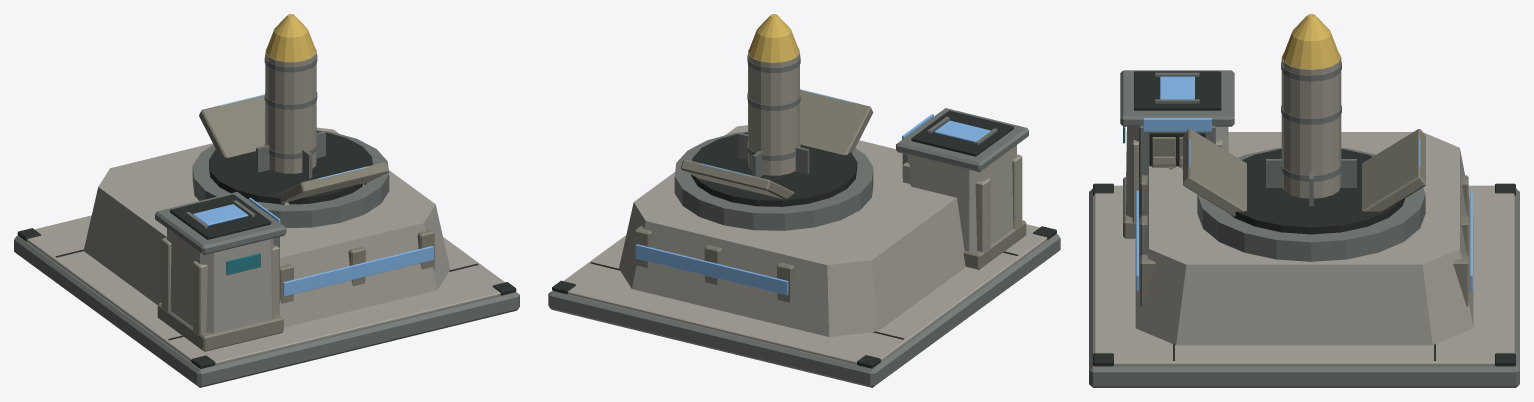
Rendered from missile_silo.glb.
3 renders of one model, left to right at view 1: azimuth 30°, elevation 25°; view 2: azimuth 150°, elevation 25°; view 3: azimuth 270°, elevation 25°, orthographic. The views are drawn at different scales.
Parts seen in each view (by area): view 1: missile_silo; view 2: missile_silo; view 3: missile_silo.
Part boxes in pixels (left/top/right/bottom): missile_silo: left=14, top=14, right=519, bottom=387; missile_silo: left=548, top=14, right=1060, bottom=387; missile_silo: left=1089, top=14, right=1519, bottom=387.
Bounding box in the file's own units: 3.7 × 2.83 × 3.7.
